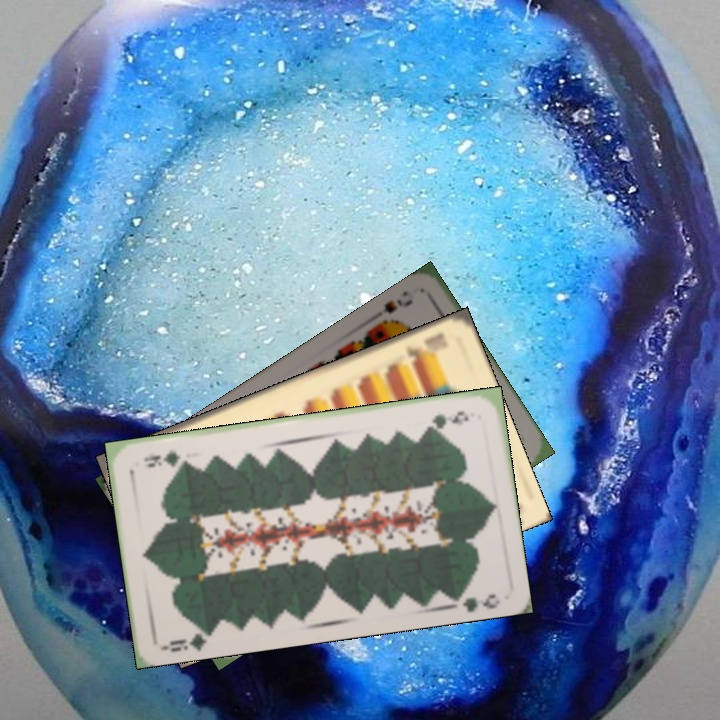E10: (402, 329, 447, 366)
G9: (158, 622, 216, 655), (422, 407, 471, 431)
S9: (366, 294, 416, 329)
